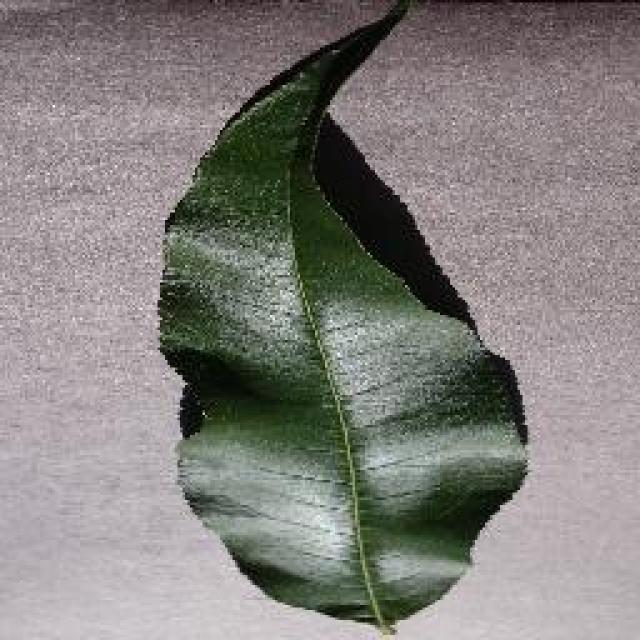Pea_healthy: (156, 88, 510, 526)
